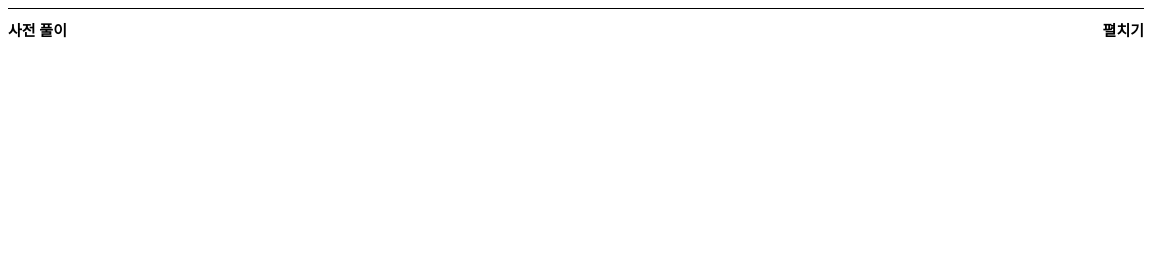
Test case: DictTabs › labels the language panels only with the language name and saves the choice
Click the button "사전 풀이 펼치기": (37, 31) x1=8 y1=9 x2=1144 y2=53
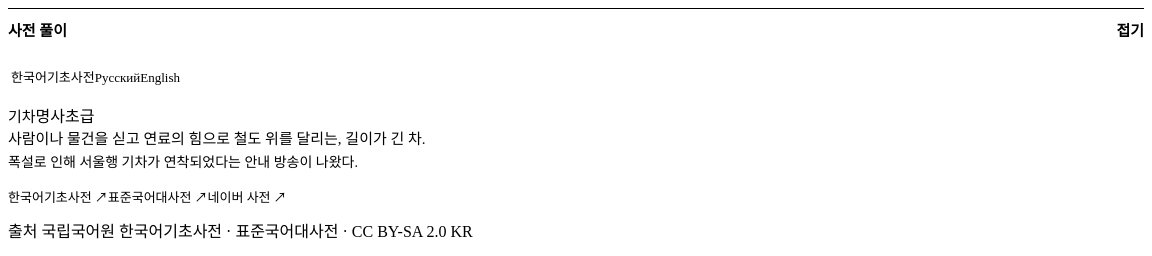
Expected: the button "사전 풀이 접기" is expanded, x1=8 y1=9 x2=1144 y2=53
Click the tab "English": (160, 78) x1=140 y1=56 x2=180 y2=100
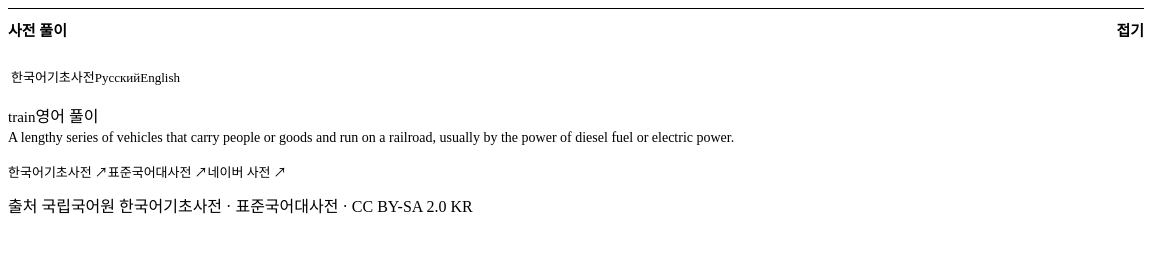
Expected: the panel does not show "·", x1=8 y1=108 x2=734 y2=145
Expected: the text "영어 풀이" is shown, x1=36 y1=103 x2=98 y2=127
Click the tab "Русский": (117, 78) x1=95 y1=56 x2=140 y2=100
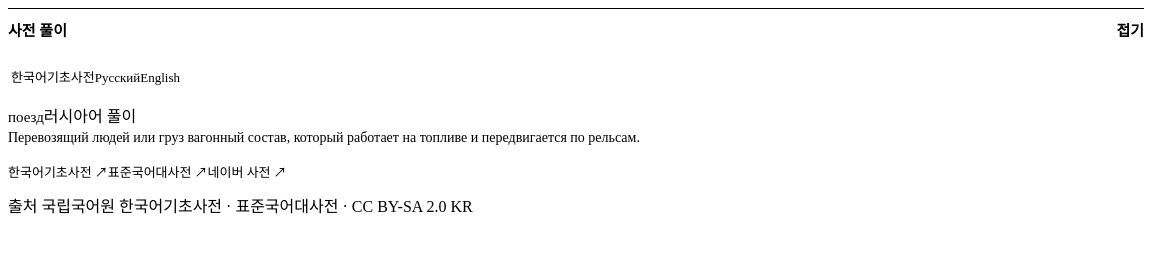
Expected: the panel does not show "·", x1=8 y1=108 x2=640 y2=145
Expected: the text "러시아어 풀이" is shown, x1=44 y1=103 x2=136 y2=127
Expected: the text "поезд" is shown, x1=8 y1=109 x2=44 y2=126
